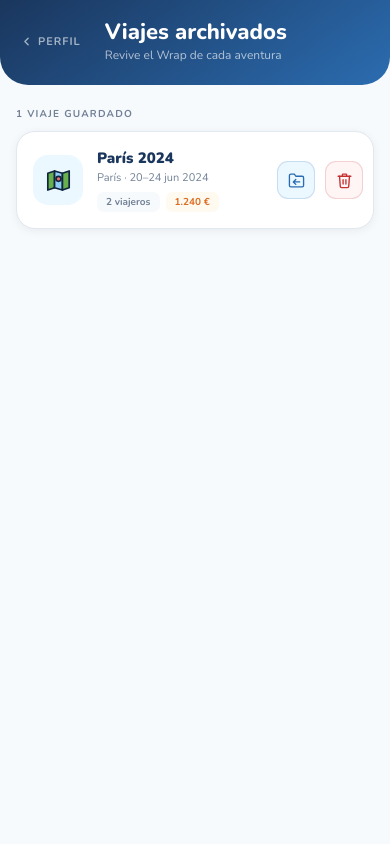
Test case: ViajesArchivados · desarchivar con confirmación › pide confirmación y al cancelar no desarchiva nada
Click the button named "Desarchivar París 2024": (296, 180) 277,161 -> 315,199
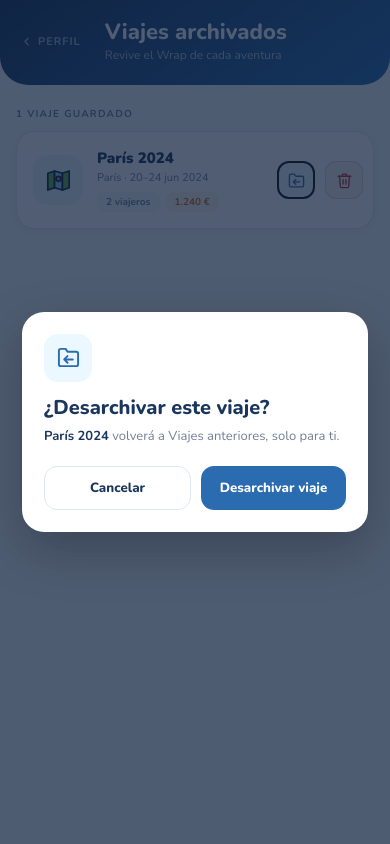
Now the text "¿Desarchivar este viaje?" is shown, box 44,394 -> 269,421
Now the dialog shows "París 2024 volverá a Viajes anteriores, solo para ti", box 22,312 -> 368,532
Click the button "Cancelar": (118, 488) 44,466 -> 191,510
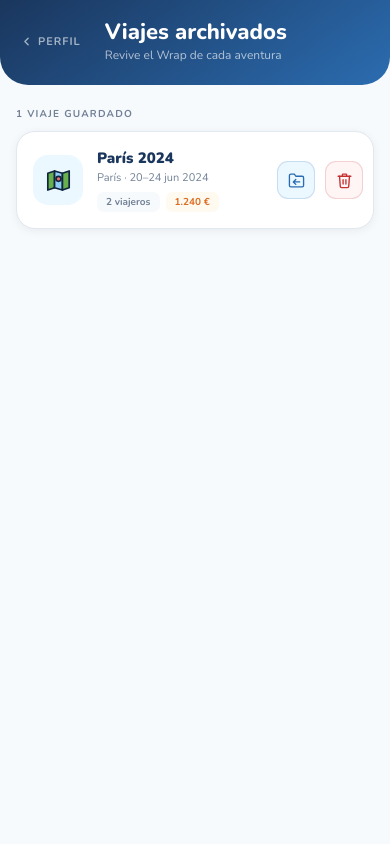
Expected: the button "París 2024 París · 20–24 jun 2024 2 viajeros 1.240 €" is shown, 33,142 -> 267,218
Now the dialog is gone
